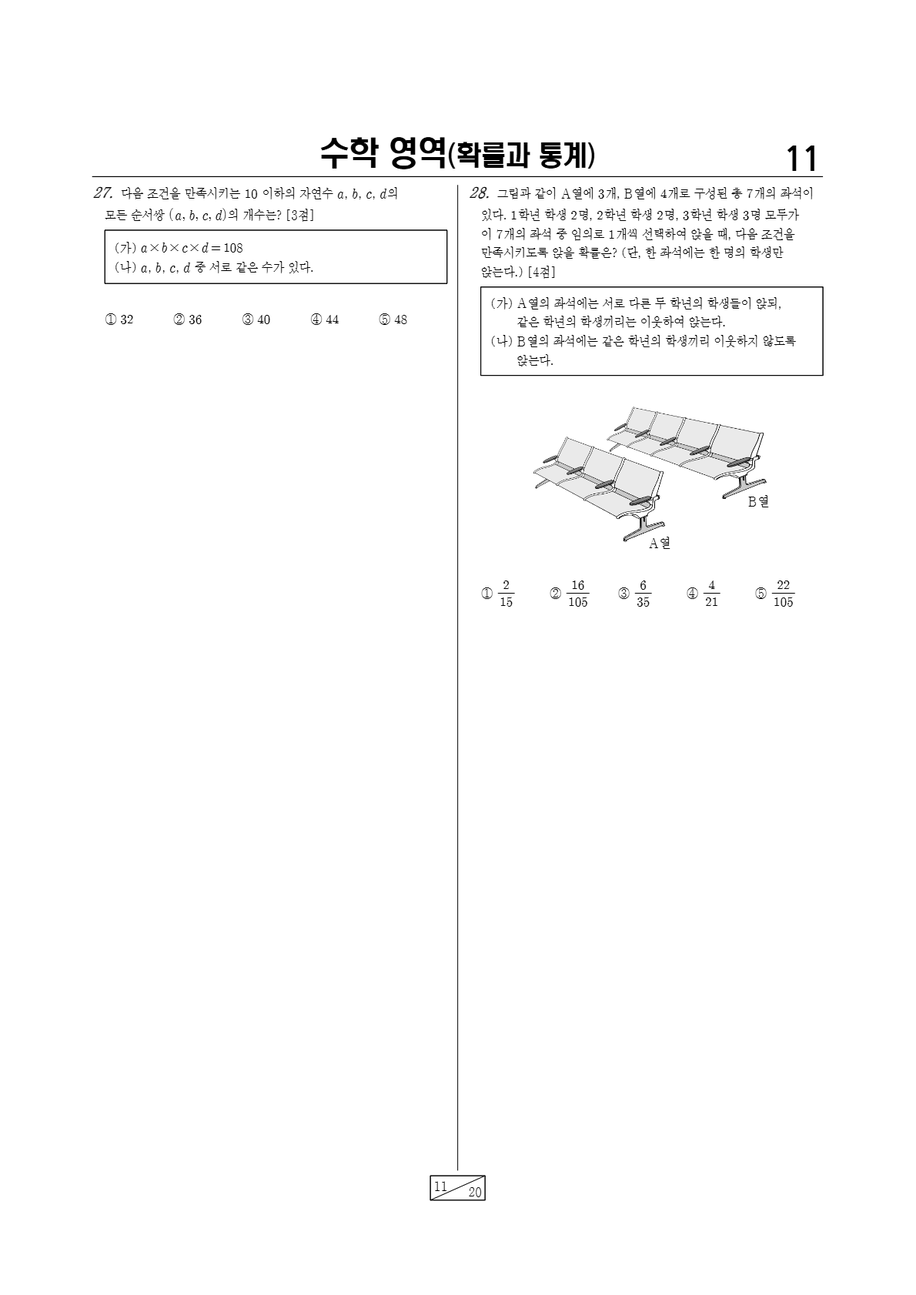opt_1: (104, 310, 118, 325), (481, 587, 493, 599)
opt_2: (550, 586, 561, 600), (173, 312, 184, 325)
opt_3: (242, 312, 253, 325), (618, 587, 629, 599)
opt_4: (310, 311, 322, 325), (687, 586, 698, 600)
opt_5: (755, 586, 767, 600), (379, 312, 390, 326)
